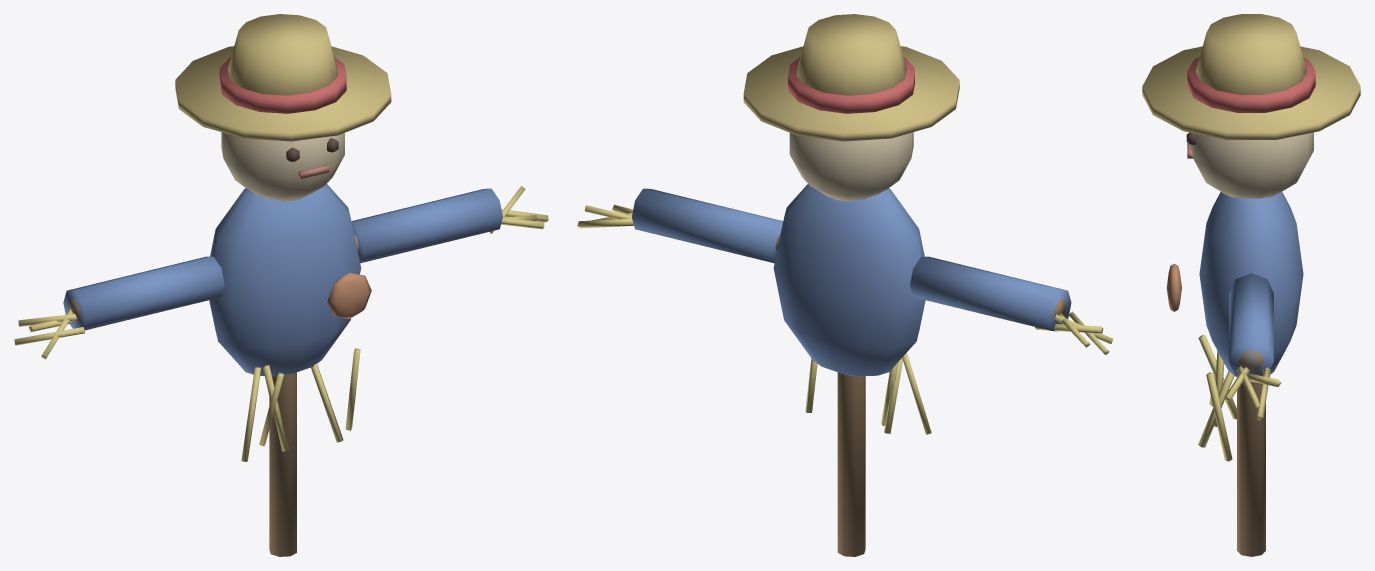
Rendered from scarecrow_lite.glb.
3 views of the same model, side by side, from view 1: azimuth 30°, elevation 25°; view 2: azimuth 150°, elevation 25°; view 3: azimuth 270°, elevation 25° (orthographic).
Parts seen in each view (by area): view 1: Cone; view 2: Cone; view 3: Cone.
Boxes of the visible parts, x1,y1,x2,y2 form: Cone: (14,14,548,556); Cone: (577,14,1113,556); Cone: (1142,14,1360,556).
Size of the model in its own units: 1.91 by 1.78 by 0.68.
